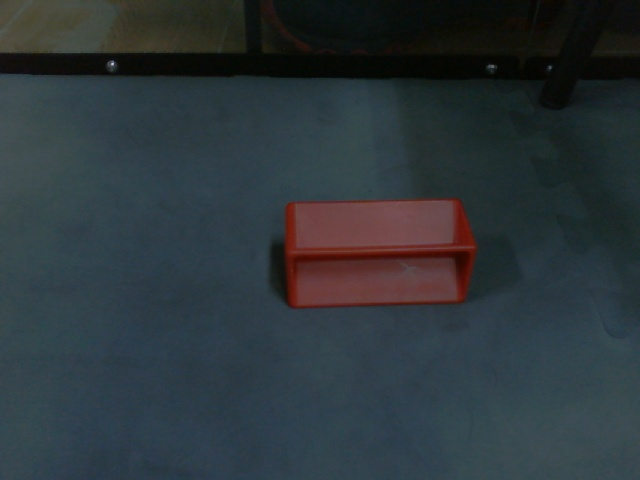RedSample: (280, 195, 479, 311)
